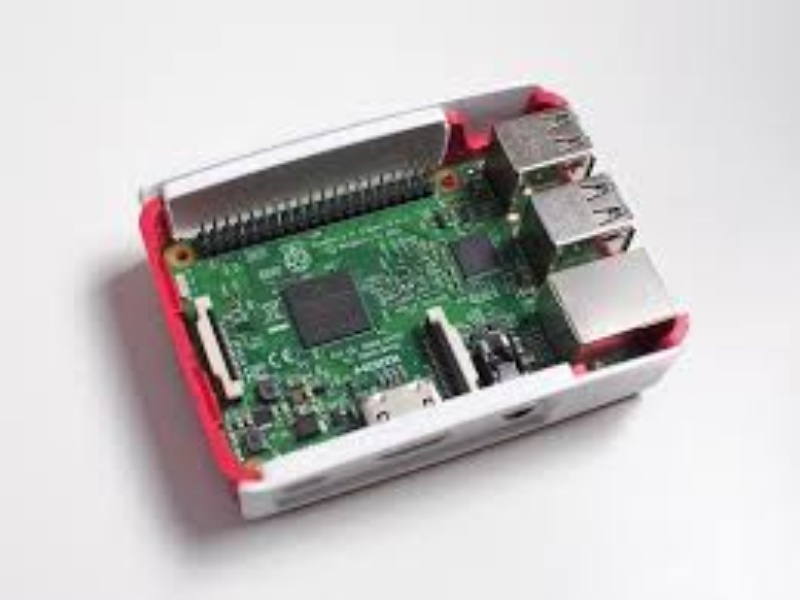raspberrypi: (120, 70, 701, 506)
